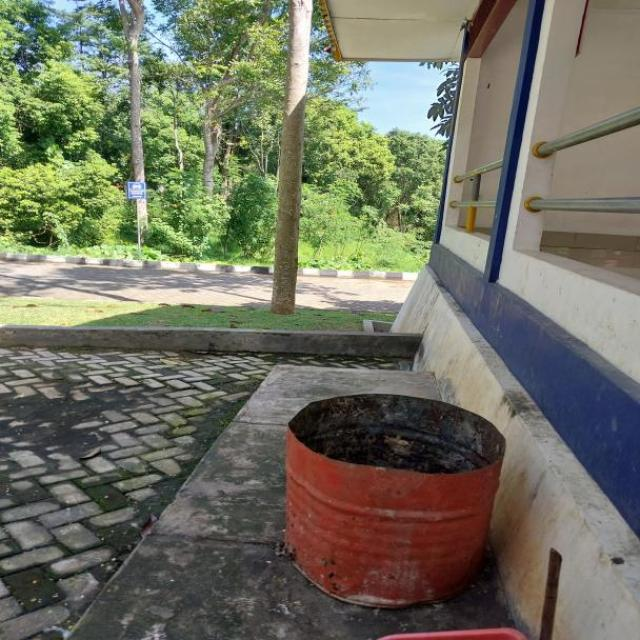dustbin ahead at: (283, 392, 506, 609)
tree ahead at: (274, 0, 316, 314)
